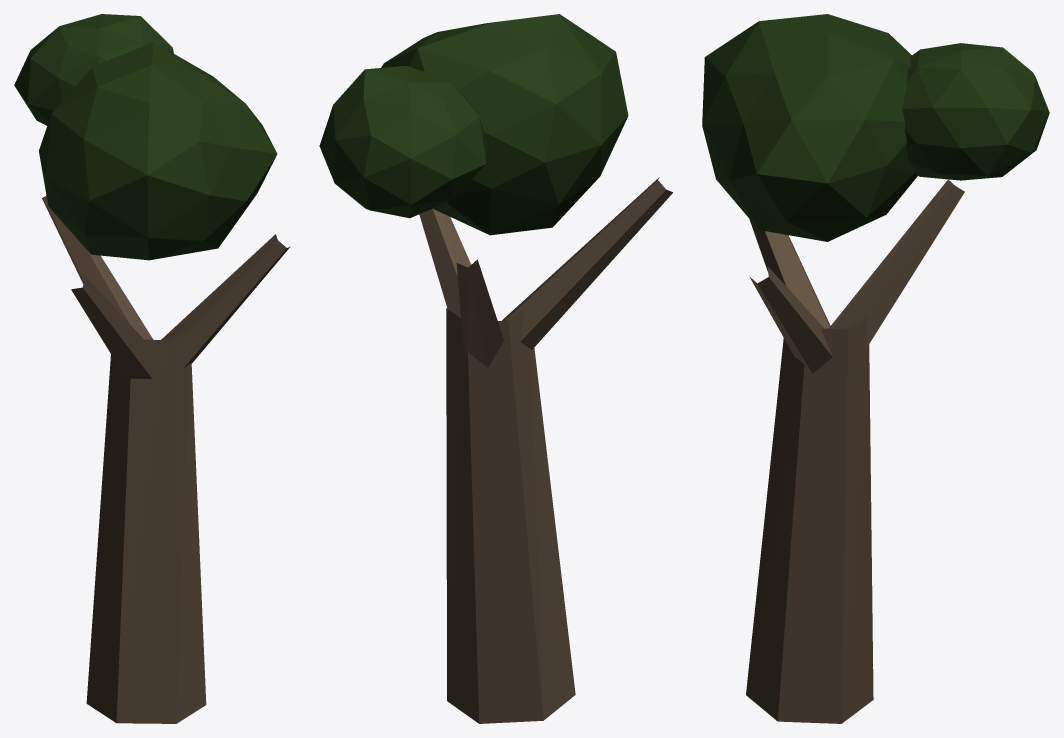
File: 1923-Street-trees-and-bushes-broadleaf.glb
The picture shows the model from 3 angles, left to right: view 1: azimuth 30°, elevation 25°; view 2: azimuth 150°, elevation 25°; view 3: azimuth 270°, elevation 25°; orthographic projection. The views are drawn at different scales.
Visible parts, largest first — view 1: Street trees and bushes/broadleaf; view 2: Street trees and bushes/broadleaf; view 3: Street trees and bushes/broadleaf.
Part boxes in pixels (bbox=[...]): Street trees and bushes/broadleaf: bbox=[14, 14, 290, 723]; Street trees and bushes/broadleaf: bbox=[319, 14, 672, 723]; Street trees and bushes/broadleaf: bbox=[702, 14, 1049, 723].
Size of the model in its own units: 0.2618 by 0.6657 by 0.3107.
